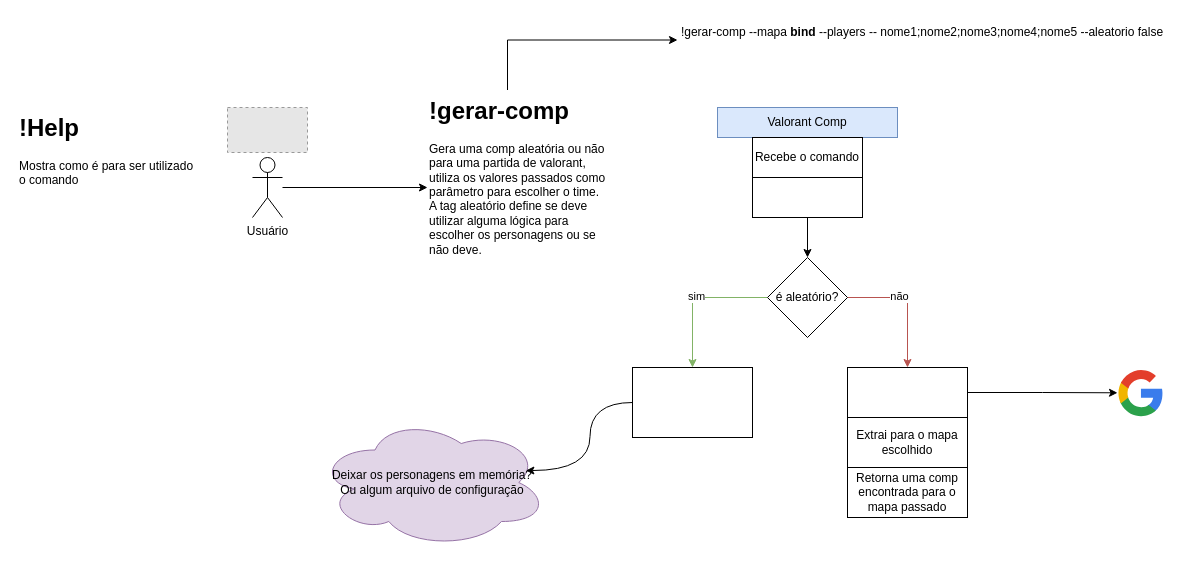
This 1184x565 diagram has some shape labels left out. Grey dashed boxes stand in for pictures. Each missing label, with the box of its shape:
Extrai os argumentos: (752, 176, 862, 218)
Faz o web scrapping no valorant api: (846, 366, 968, 418)
Retorna os personagens para cada um aleatóriamente: (632, 366, 752, 438)
